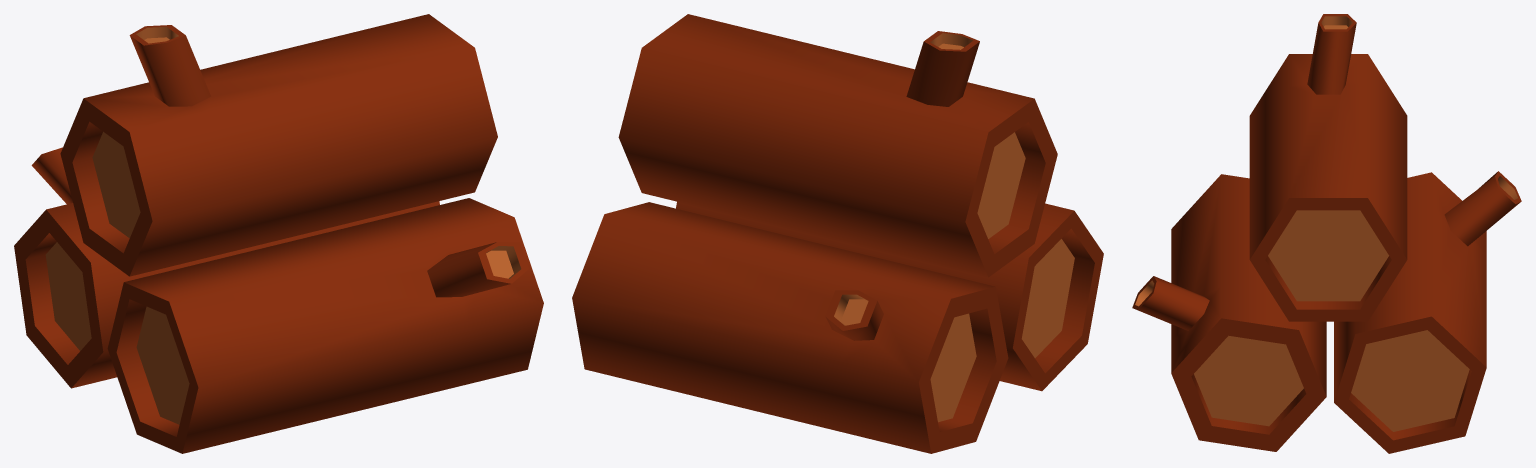
Rendered from Hout Item.fbx.
3 renders of one model, left to right at view 1: azimuth 30°, elevation 25°; view 2: azimuth 150°, elevation 25°; view 3: azimuth 270°, elevation 25°, orthographic. The views are drawn at different scales.
Visible parts, largest first — view 1: Cylinder.003; view 2: Cylinder.003; view 3: Cylinder.003.
Part boxes in pixels (box(x1,y1,x2,y2)): Cylinder.003: box(14, 14, 543, 453); Cylinder.003: box(572, 14, 1103, 453); Cylinder.003: box(1132, 14, 1521, 453).
Size of the model in its own units: 23.72 by 23.8 by 27.09.
